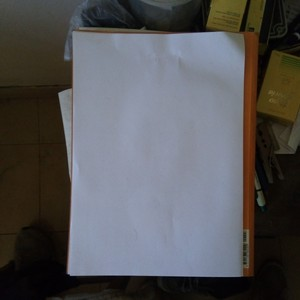base: (74, 33, 242, 276)
